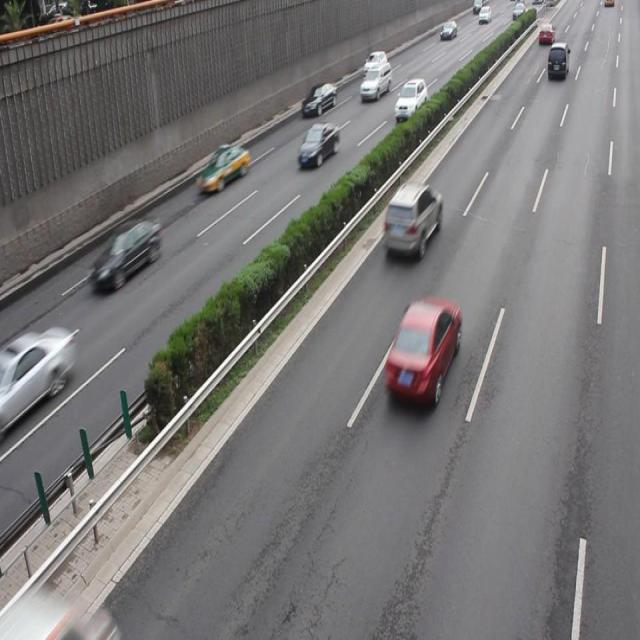car: (383, 295, 460, 408), (1, 325, 73, 428), (89, 217, 160, 293), (381, 180, 442, 262), (196, 142, 249, 192), (297, 121, 339, 168), (393, 78, 427, 122), (299, 80, 336, 118)
